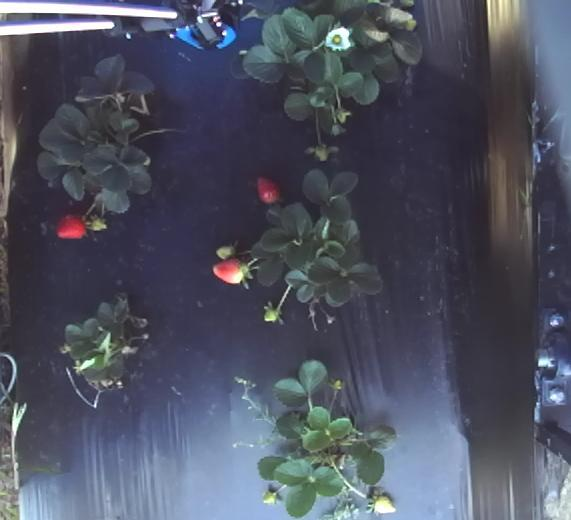mature: (211, 257, 245, 285), (55, 212, 87, 239), (255, 175, 280, 204)
